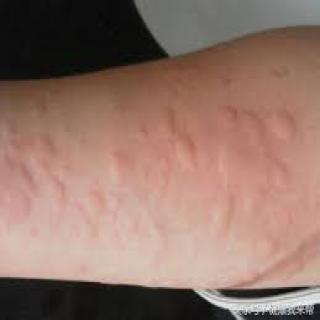urticaria: (220, 94, 304, 239), (7, 131, 119, 230), (132, 97, 201, 192)
